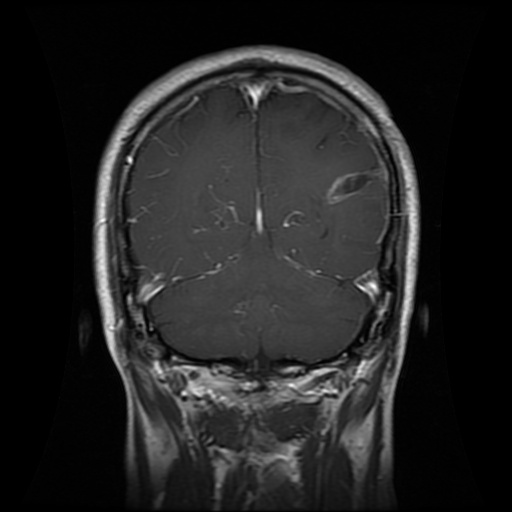glioma: (323, 164, 384, 206)
